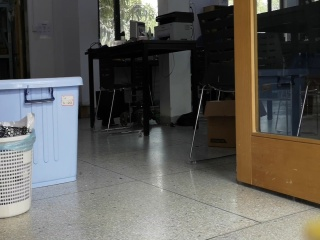room: (5, 3, 320, 207)
